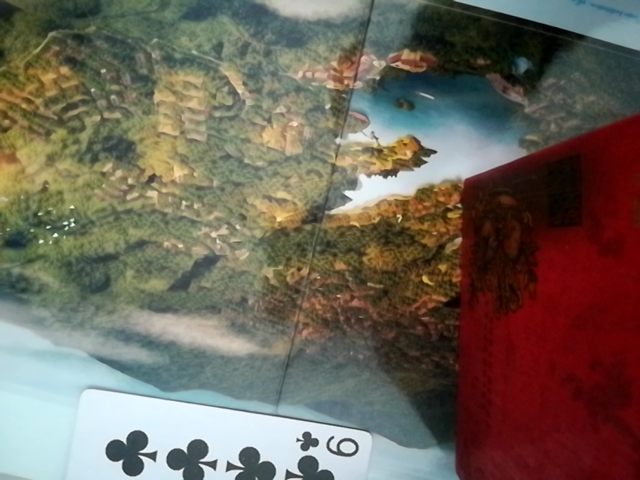mh 9: (29, 387, 431, 478)
